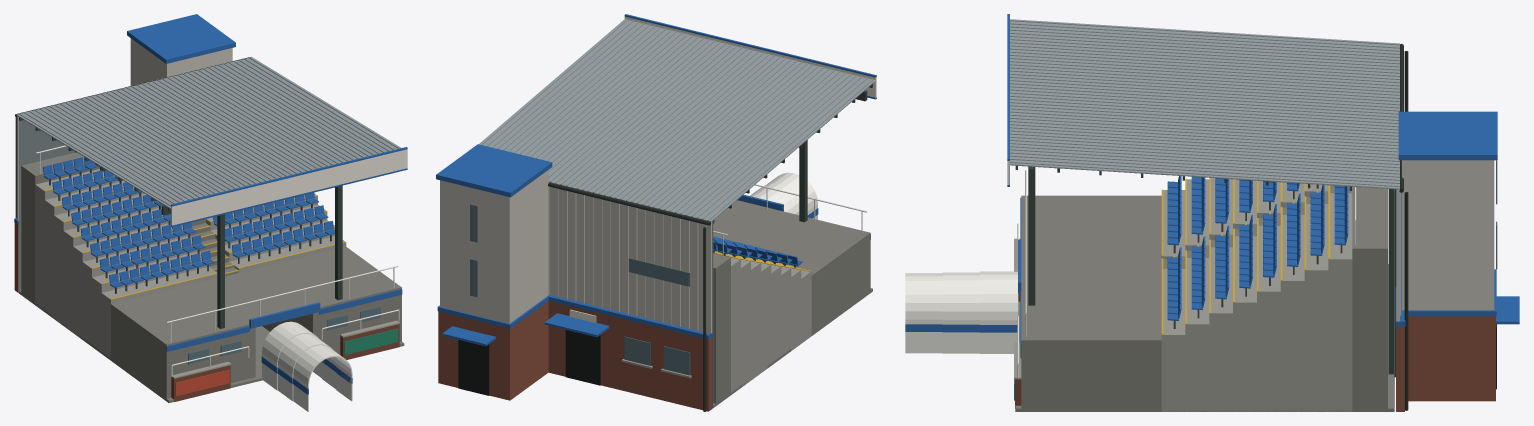
The model's file is main_stand_12_tunnel.glb.
3 renders of one model, left to right at view 1: azimuth 30°, elevation 25°; view 2: azimuth 150°, elevation 25°; view 3: azimuth 270°, elevation 25°, orthographic. The views are drawn at different scales.
Parts seen in each view (by area): view 1: Main_Corrugated_Sheet, Main_Concrete_Dark, Main_Concrete, Main_Club_Primary_Seats, Main_Club_Primary_Trim, Main_Club_Secondary_Fascia, Main_Tunnel_Canopy, Main_Rear_Cladding, Main_Corrugated_Underside, Main_Steel_Frame, Main_Front_Wall, Main_Seat_Bracket (+6 smaller); view 2: Main_Corrugated_Sheet, Main_Rear_Cladding, Main_Rear_Brick, Main_Concrete_Dark, Main_Concrete, Main_Club_Primary_Trim, Main_Shadow_Gap, Main_Window_Glass, Main_Gutter, Main_Tunnel_Canopy, Main_Club_Secondary_Fascia, Main_Club_Primary_Seats (+3 smaller); view 3: Main_Corrugated_Sheet, Main_Concrete_Dark, Main_Concrete, Main_Rear_Cladding, Main_Club_Primary_Seats, Main_Club_Primary_Trim, Main_Tunnel_Canopy, Main_Rear_Brick, Main_Steel_Frame, Main_Step_Edge_Yellow, Main_Gutter, Main_Railing_White (+1 smaller).
Boxes of the visible parts, x1,y1,x2,y2 form: Main_Corrugated_Sheet: [16, 57, 400, 208]; Main_Concrete_Dark: [19, 152, 404, 402]; Main_Concrete: [35, 169, 399, 378]; Main_Club_Primary_Seats: [43, 157, 334, 287]; Main_Club_Primary_Trim: [14, 14, 407, 394]; Main_Club_Secondary_Fascia: [171, 149, 407, 225]; Main_Tunnel_Canopy: [262, 321, 352, 411]; Main_Rear_Cladding: [16, 38, 232, 223]; Main_Corrugated_Underside: [17, 116, 169, 292]; Main_Steel_Frame: [19, 117, 342, 328]; Main_Front_Wall: [171, 324, 399, 401]; Main_Seat_Bracket: [49, 166, 331, 293]; Main_Corrugated_Sheet: [479, 19, 875, 221]; Main_Rear_Cladding: [440, 170, 712, 333]; Main_Rear_Brick: [438, 301, 712, 411]; Main_Concrete_Dark: [713, 200, 872, 407]; Main_Concrete: [621, 257, 811, 392]; Main_Club_Primary_Trim: [436, 14, 876, 346]; Main_Shadow_Gap: [458, 330, 600, 395]; Main_Window_Glass: [470, 204, 690, 375]; Main_Gutter: [548, 182, 710, 411]; Main_Tunnel_Canopy: [750, 172, 817, 219]; Main_Club_Secondary_Fascia: [569, 16, 876, 322]; Main_Club_Primary_Seats: [713, 236, 802, 266]; Main_Corrugated_Sheet: [1009, 19, 1399, 189]; Main_Concrete_Dark: [1015, 186, 1393, 411]; Main_Concrete: [1014, 178, 1352, 411]; Main_Rear_Cladding: [1396, 160, 1494, 321]; Main_Club_Primary_Seats: [1167, 176, 1348, 320]; Main_Club_Primary_Trim: [905, 14, 1519, 349]; Main_Tunnel_Canopy: [905, 271, 1018, 353]; Main_Rear_Brick: [1396, 316, 1495, 411]; Main_Steel_Frame: [1015, 165, 1396, 377]; Main_Step_Edge_Yellow: [1161, 178, 1330, 334]; Main_Gutter: [1399, 43, 1408, 410]; Main_Railing_White: [1017, 170, 1356, 377].
Bounding box in the file's own units: 11.52 × 9.37 × 20.62.
